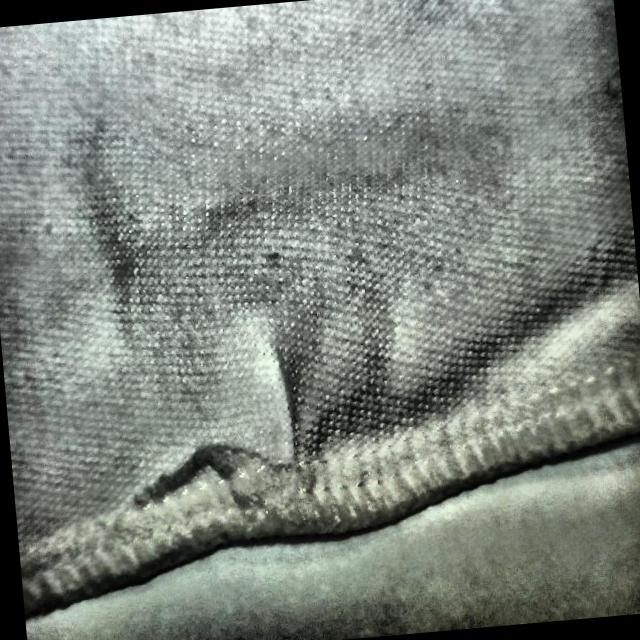gray stitch: (130, 365, 340, 551)
